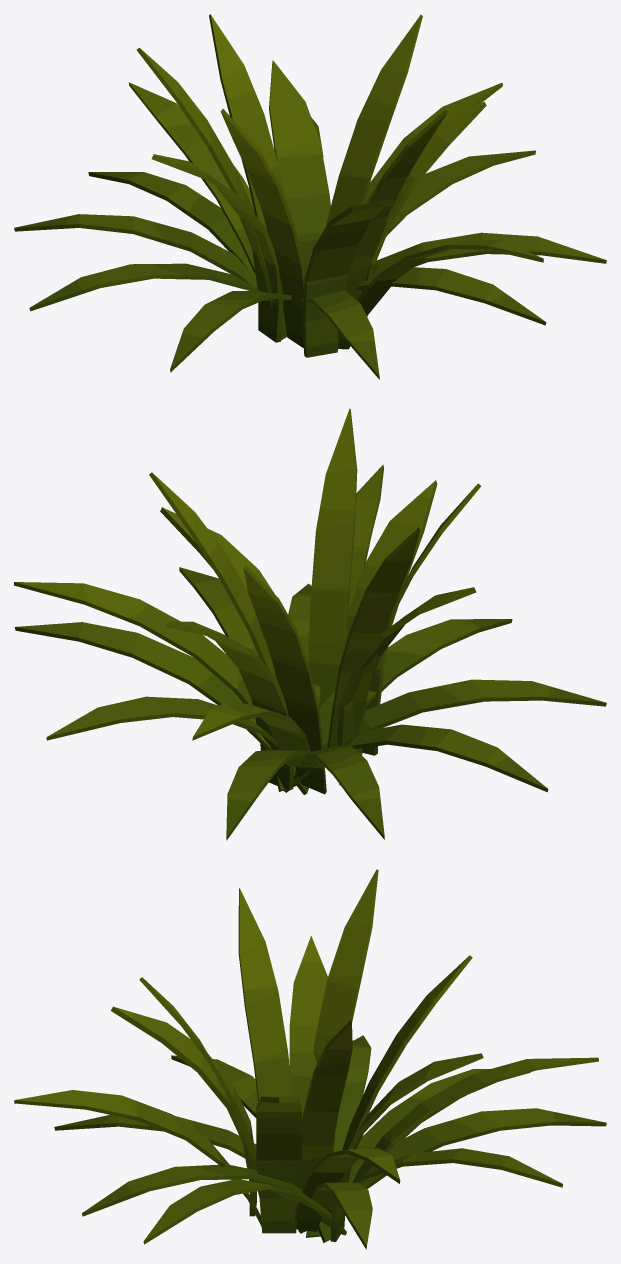
Rendered from bush.fbx.
The picture shows the model from 3 angles, top to bottom: view 1: azimuth 30°, elevation 25°; view 2: azimuth 150°, elevation 25°; view 3: azimuth 270°, elevation 25°; orthographic projection. The views are drawn at different scales.
Parts seen in each view (by area): view 1: Plane.016; view 2: Plane.016; view 3: Plane.016.
Boxes of the visible parts, x1,y1,x2,y2 form: Plane.016: (14,14,606,379); Plane.016: (14,408,606,840); Plane.016: (14,869,606,1249).
Bounding box in the file's own units: 986 × 567 × 1018.
